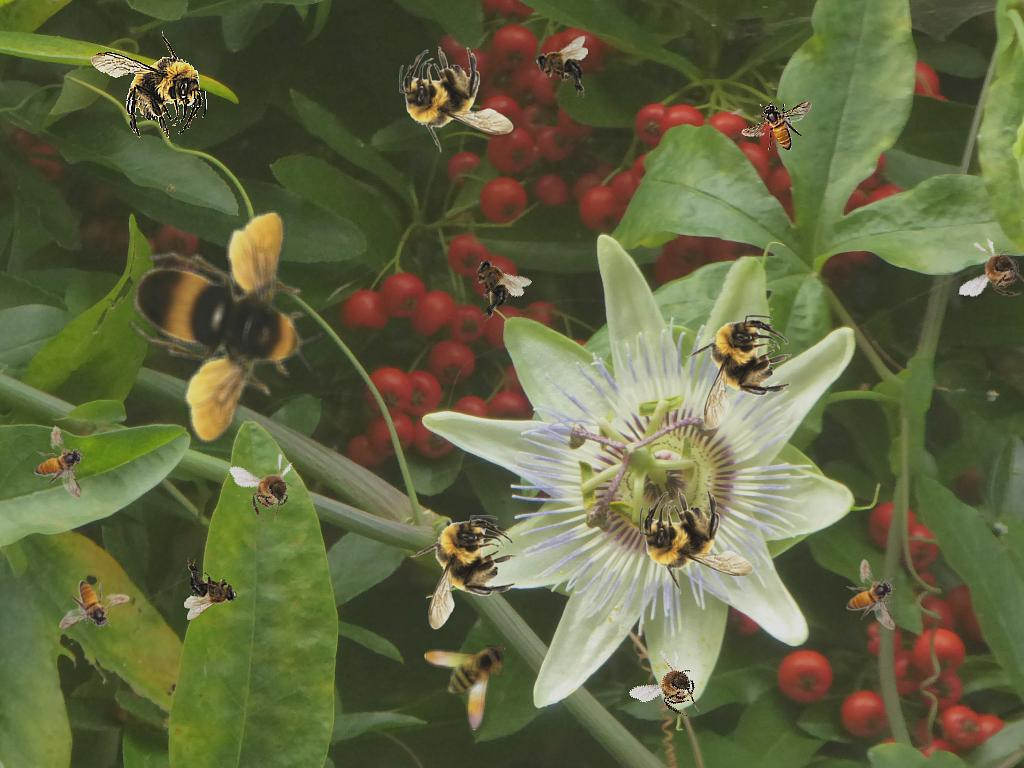Bee: (115, 205, 339, 454), (89, 30, 208, 141), (639, 488, 754, 595), (410, 515, 517, 630), (685, 315, 792, 430), (399, 46, 514, 153), (628, 641, 719, 729), (228, 443, 313, 533), (424, 643, 506, 731), (452, 244, 535, 326), (958, 234, 1024, 306), (32, 423, 88, 500), (741, 101, 812, 151), (846, 559, 896, 630), (59, 580, 130, 630), (535, 36, 588, 98), (184, 558, 237, 620)
